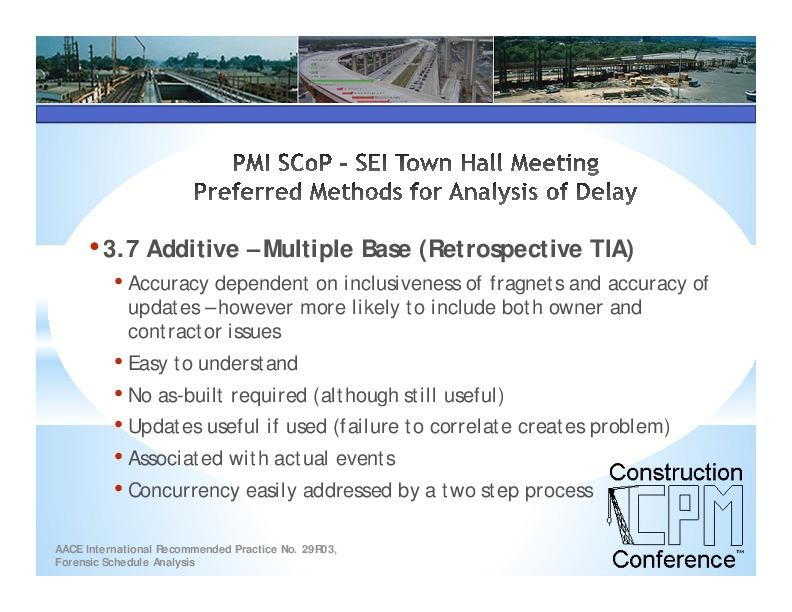paragraph: (104, 261, 723, 525)
subtitle: (87, 225, 662, 269), (51, 537, 355, 575)
title: (164, 134, 657, 211)
